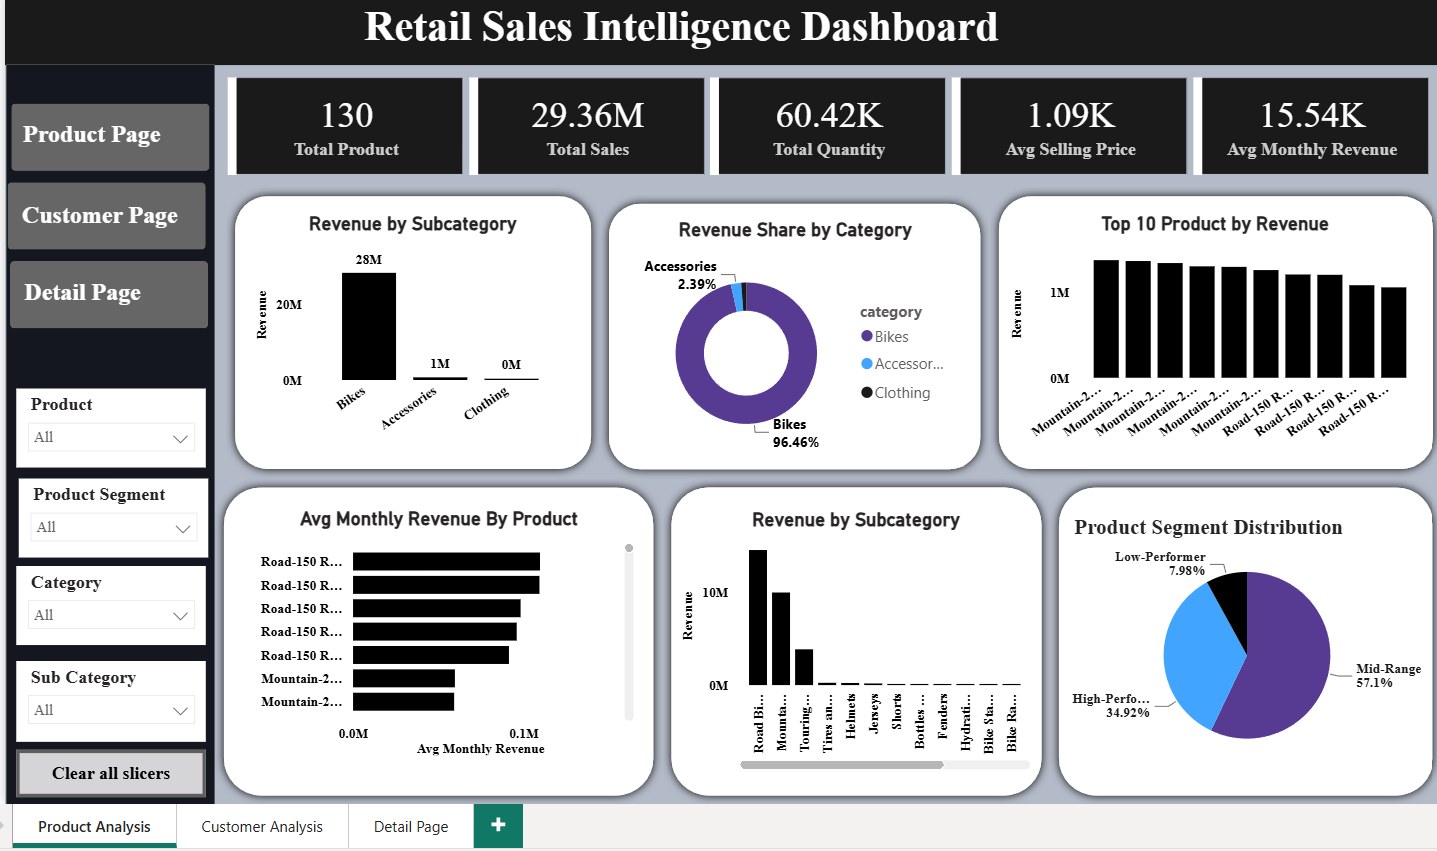

This screenshot's page, from the dashboard's own definition file:
{"tool":"powerbi","page":{"name":"Product Analysis","canvas":[1280,720],"ordinal":0},"visuals":[{"type":"shape","box":[931,429.7,349.3,290.2],"z":0},{"type":"shape","box":[0,0,1280,61.5],"z":1000},{"type":"shape","box":[877,170.9,403.3,258.8],"z":2000},{"type":"shape","box":[530.2,177.2,346.8,252.5],"z":3000},{"type":"shape","box":[585.5,429.7,345.5,290.2],"z":4000},{"type":"shape","box":[187.2,429.7,398.3,290.2],"z":5000},{"type":"shape","box":[197.3,170.9,332.9,258.8],"z":6000},{"type":"cardVisual","fields":{"Data":["Count(product_report.product_key)","Sum(product_report.total_sales)","Sum(product_report.total_quantity)","Avg(product_report.avg_selling_price)","Avg(product_report.avg_monthly_revenue)"]},"box":[187,61.5,1093,109.8],"z":7000},{"type":"donutChart","title":"Revenue Share by Category","fields":{"Category":["product_report.category"],"Y":["Sum(product_report.total_sales)"]},"box":[554.1,198.5,299,221.1],"z":8000},{"type":"pieChart","title":"Product Segment Distribution","fields":{"Category":["product_report.product_segment"],"Y":["Sum(product_report.product_key)"]},"box":[947.3,462.3,317.9,229.9],"z":9000},{"type":"columnChart","title":"Top 10 Product by Revenue","fields":{"Category":["product_report.product_name"],"Y":["Sum(product_report.total_sales)"]},"box":[890.8,192.2,374.4,213.6],"z":10000},{"type":"columnChart","title":"Revenue by Subcategory","fields":{"Category":["product_report.subcategory"],"Y":["Sum(product_report.total_sales)"]},"box":[598,456.1,320.4,237.5],"z":11000},{"type":"barChart","title":"Avg Monthly Revenue By Product","fields":{"Category":["product_report.product_name"],"Y":["Sum(product_report.avg_monthly_revenue)"]},"box":[208.6,454.8,356.8,226.1],"z":12000},{"type":"shape","box":[1,61.3,185.8,658.7],"z":13000},{"type":"slicer","fields":{"Values":["product_report.product_segment"]},"box":[12.8,429.7,168.8,70.3],"z":14000},{"type":"slicer","fields":{"Values":["product_report.category"]},"box":[10.2,507.8,168.8,70.3],"z":15000},{"type":"slicer","fields":{"Values":["product_report.subcategory"]},"box":[10.2,592.2,168.8,71.6],"z":16000},{"type":"actionButton","box":[9.7,670.8,168.9,42.2],"z":18000},{"type":"textbox","box":[257.1,0,690.6,58.8],"z":19000},{"type":"columnChart","title":"Revenue by Subcategory","fields":{"Y":["Sum(product_report.total_sales)"],"Category":["product_report.category"]},"box":[218.6,192.2,290.2,213.6],"z":20000},{"type":"slicer","fields":{"Values":["product_report.product_name"]},"box":[10.2,349.2,168.8,70.3],"z":20003},{"type":"shape","box":[2.6,166.3,176.5,60.1],"z":20004},{"type":"textbox","box":[10.2,177.8,154.8,48.6],"z":20005},{"type":"shape","box":[5.1,95.9,176.5,60.1],"z":20006},{"type":"textbox","box":[11.5,106.2,154.8,42.2],"z":20007},{"type":"shape","box":[4.8,236.1,176.5,60.1],"z":20008},{"type":"textbox","box":[12.5,247.6,154.8,48.6],"z":20009}]}

Visuals, with their boxes on the page's 1280x720 design canvas (x1, y1, x2, y2). These are canvas units, not pixel positions in the 1437x851 screenshot, which may show the page scaled, cropped or inside an application window:
shape: [left=931, top=430, right=1280, bottom=720]
shape: [left=0, top=0, right=1280, bottom=62]
shape: [left=877, top=171, right=1280, bottom=430]
shape: [left=530, top=177, right=877, bottom=430]
shape: [left=586, top=430, right=931, bottom=720]
shape: [left=187, top=430, right=586, bottom=720]
shape: [left=197, top=171, right=530, bottom=430]
cardVisual - Count(product_report.product_key) x Sum(product_report.total_sales): [left=187, top=62, right=1280, bottom=171]
"Revenue Share by Category" donutChart: [left=554, top=198, right=853, bottom=420]
"Product Segment Distribution" pieChart: [left=947, top=462, right=1265, bottom=692]
"Top 10 Product by Revenue" columnChart: [left=891, top=192, right=1265, bottom=406]
"Revenue by Subcategory" columnChart: [left=598, top=456, right=918, bottom=694]
"Avg Monthly Revenue By Product" barChart: [left=209, top=455, right=565, bottom=681]
shape: [left=1, top=61, right=187, bottom=720]
slicer - product_report.product_segment: [left=13, top=430, right=182, bottom=500]
slicer - product_report.category: [left=10, top=508, right=179, bottom=578]
slicer - product_report.subcategory: [left=10, top=592, right=179, bottom=664]
actionButton: [left=10, top=671, right=179, bottom=713]
textbox: [left=257, top=0, right=948, bottom=59]
"Revenue by Subcategory" columnChart: [left=219, top=192, right=509, bottom=406]
slicer - product_report.product_name: [left=10, top=349, right=179, bottom=420]
shape: [left=3, top=166, right=179, bottom=226]
textbox: [left=10, top=178, right=165, bottom=226]
shape: [left=5, top=96, right=182, bottom=156]
textbox: [left=12, top=106, right=166, bottom=148]
shape: [left=5, top=236, right=181, bottom=296]
textbox: [left=12, top=248, right=167, bottom=296]
